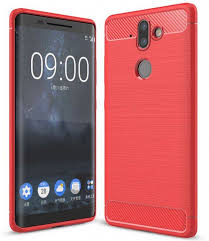nokia: (102, 1, 200, 237), (9, 7, 97, 235)
